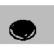correct: (7, 17, 37, 42)
